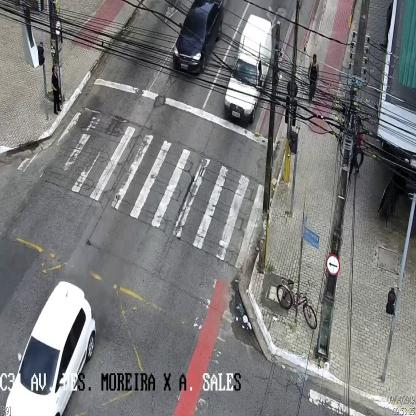bicycle: (277, 277, 316, 329)
car: (5, 278, 96, 416), (224, 13, 272, 125), (172, 1, 223, 74)
person: (52, 62, 64, 115), (308, 54, 318, 107)
